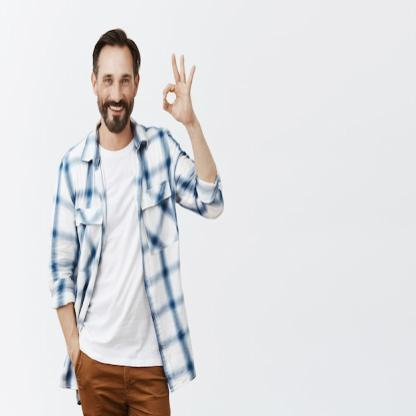ok: (159, 50, 197, 128)
